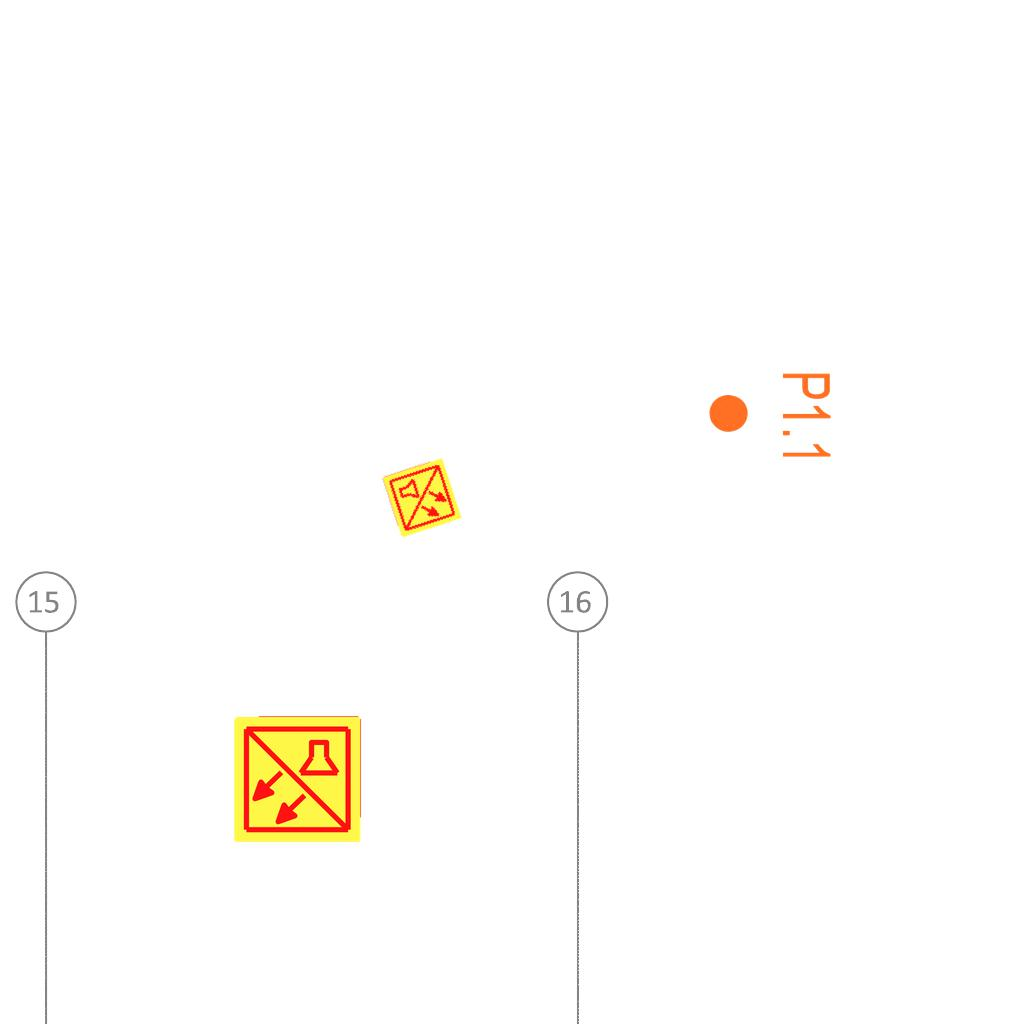Downlight_LED_Einbauleuchten_Flur: (706, 370, 834, 463)
OKW_Multisensormelder_(Kombination_optischer_Rauch-Kahlenmonoxid_Waerme-Melder): (231, 713, 363, 845), (380, 456, 464, 540)
